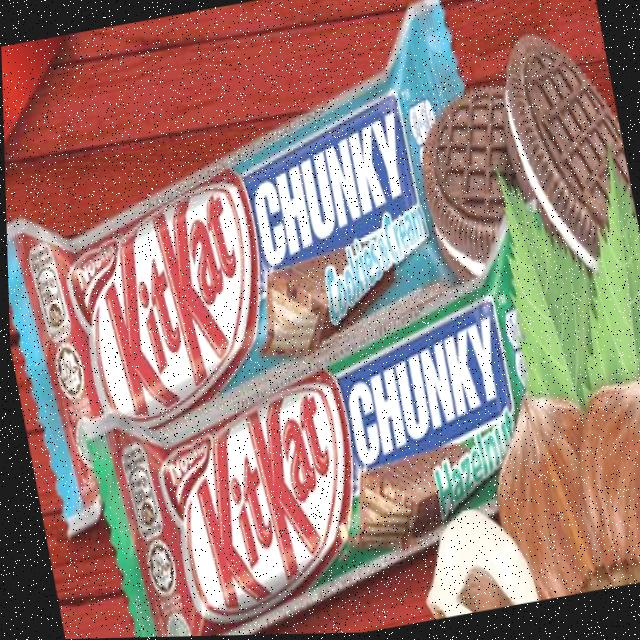kitkat: (0, 0, 536, 545), (56, 201, 609, 639)
